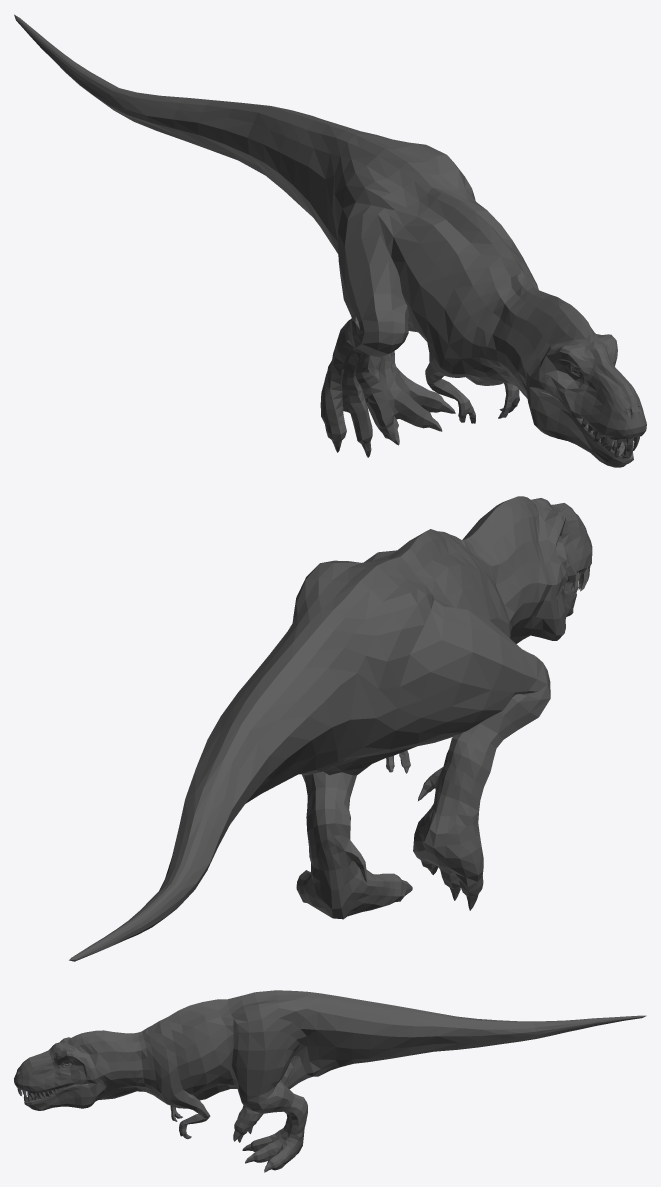
The model's file is mama_scarface.obj.
3 views of the same model, one above another, from view 1: azimuth 30°, elevation 25°; view 2: azimuth 150°, elevation 25°; view 3: azimuth 270°, elevation 25° (orthographic). The views are drawn at different scales.
Parts seen in each view (by area): view 1: Object_6; view 2: Object_6; view 3: Object_6.
Part boxes in pixels (bbox=[...]): Object_6: bbox=[14, 14, 646, 467]; Object_6: bbox=[69, 496, 592, 961]; Object_6: bbox=[14, 990, 646, 1172].
Bounding box in the file's own units: 2.78 × 4.51 × 15.52.
